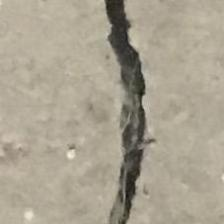Crack: (91, 0, 188, 224)
